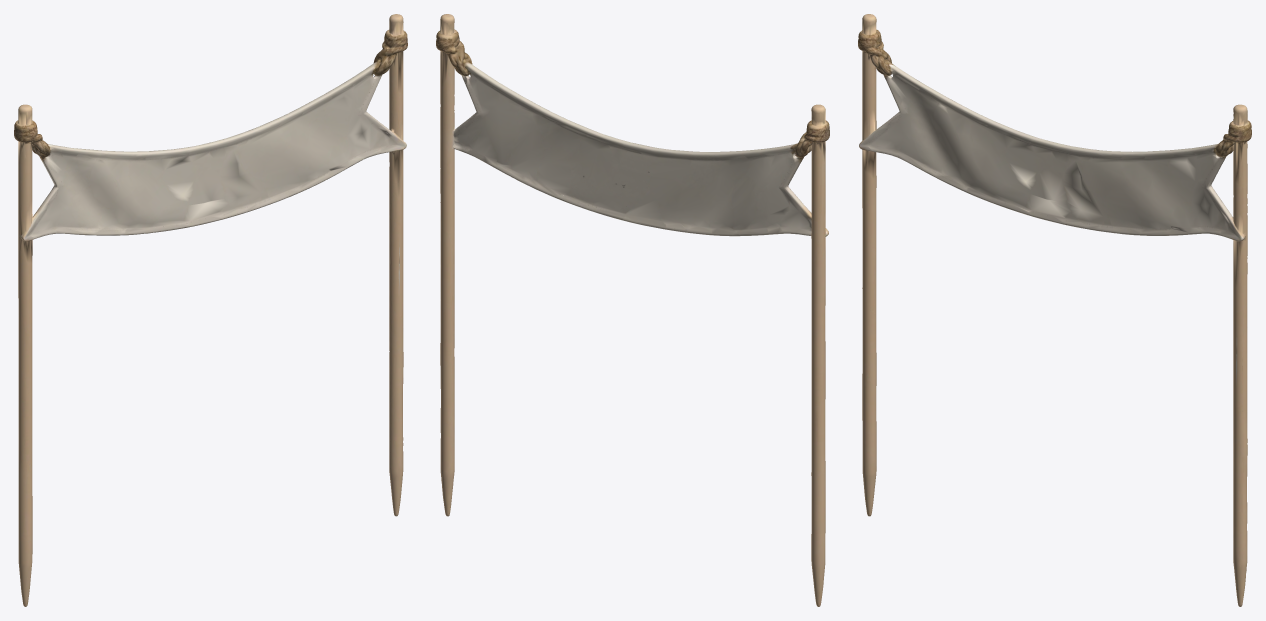
The model's file is bk-topper-banner-blank.glb.
3 views of the same model, side by side, from view 1: azimuth 30°, elevation 25°; view 2: azimuth 150°, elevation 25°; view 3: azimuth 330°, elevation 25° (orthographic).
Parts seen in each view (by area): view 1: node_0; view 2: node_0; view 3: node_0.
Boxes of the visible parts, x1,y1,x2,y2 form: node_0: (14, 14, 407, 606); node_0: (436, 14, 829, 606); node_0: (858, 14, 1251, 606).
Size of the model in its own units: 0.7674 by 0.9403 by 0.0444.
1 material, 1 textured.
